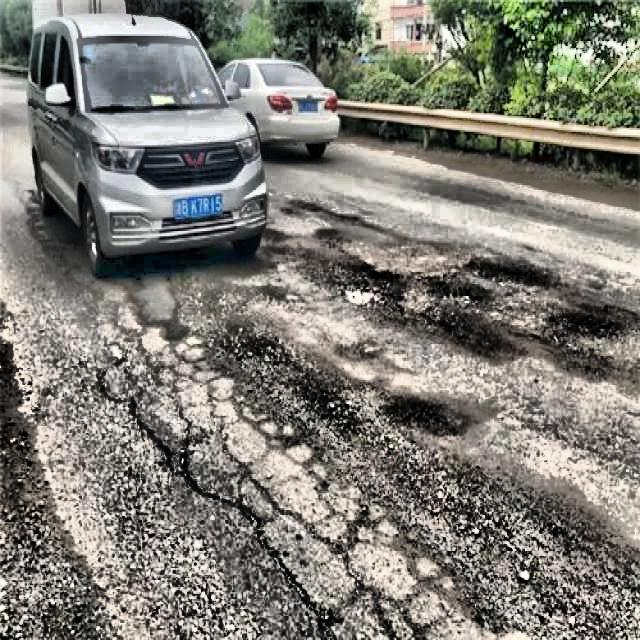buraco: (170, 284, 293, 382), (358, 376, 486, 446), (454, 243, 546, 299), (314, 254, 394, 318)
